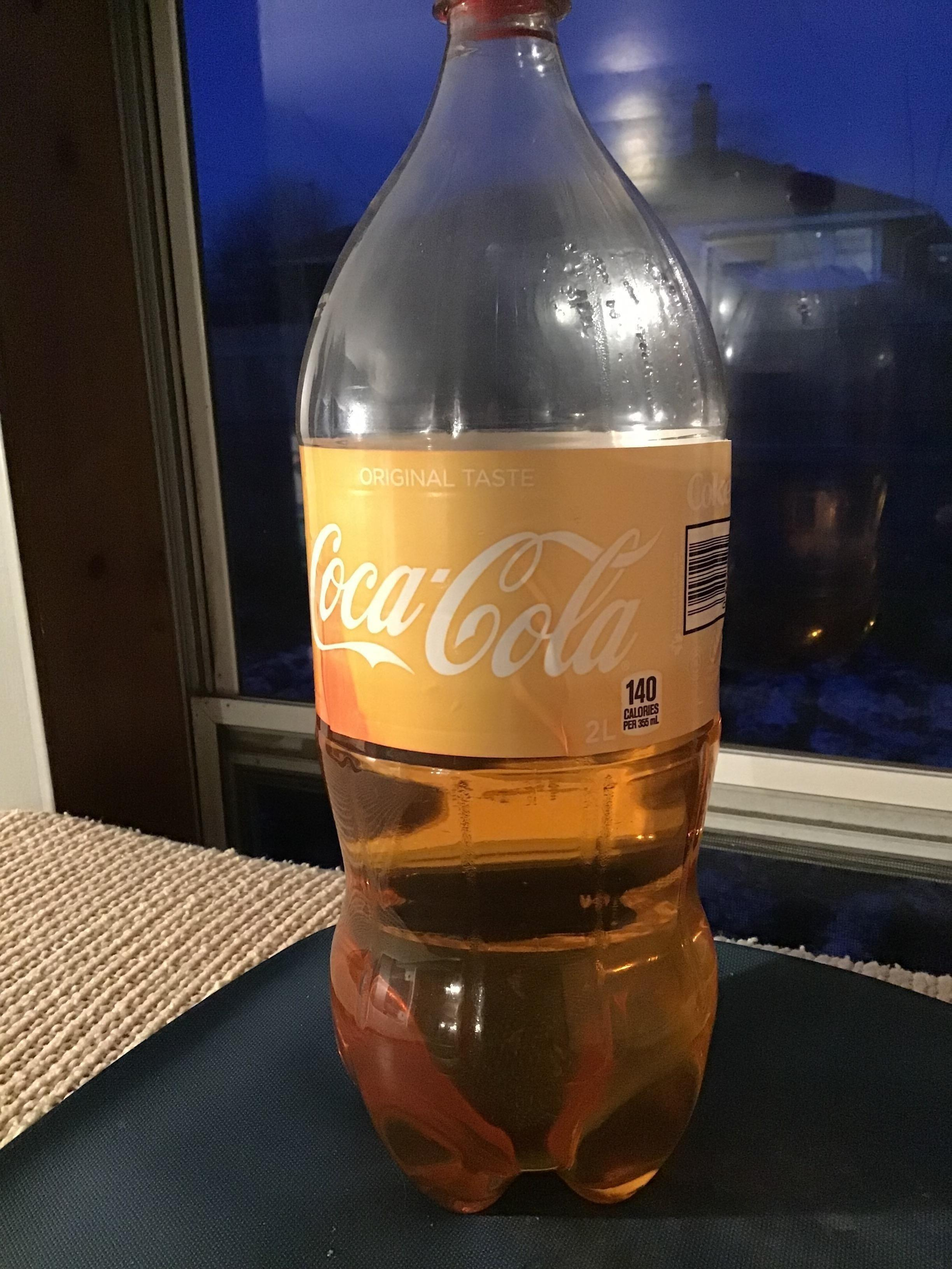bottle-plastic: (272, 0, 747, 1226)
